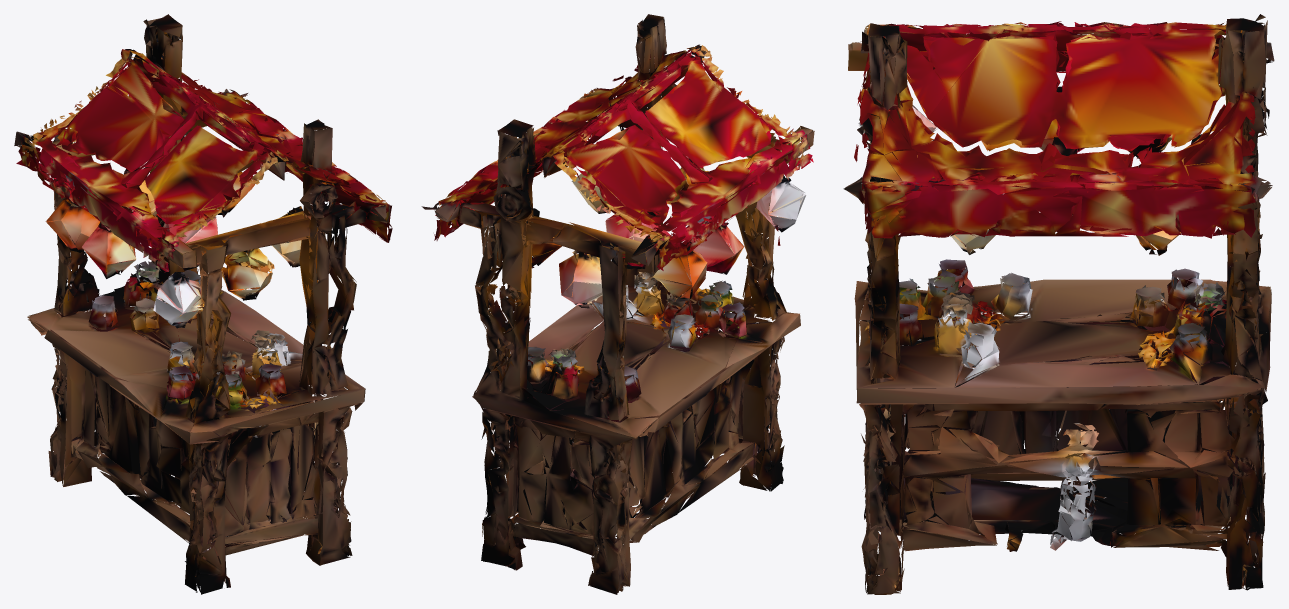
File: festival_stall.glb
The picture shows the model from 3 angles, left to right: view 1: azimuth 30°, elevation 25°; view 2: azimuth 150°, elevation 25°; view 3: azimuth 270°, elevation 25°; orthographic projection. The views are drawn at different scales.
Visible parts, largest first — view 1: festival_stall_body; view 2: festival_stall_body; view 3: festival_stall_body.
Part boxes in pixels (x1,y1,x2,y2): festival_stall_body: (14,14,392,594); festival_stall_body: (421,14,814,594); festival_stall_body: (843,14,1274,594).
Bounding box in the file's own units: 2.61 × 4.54 × 3.21.
Materials: 1 (1 with a texture image).
